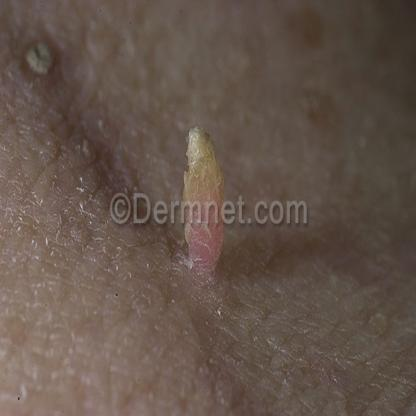Warts: (171, 105, 235, 202)
